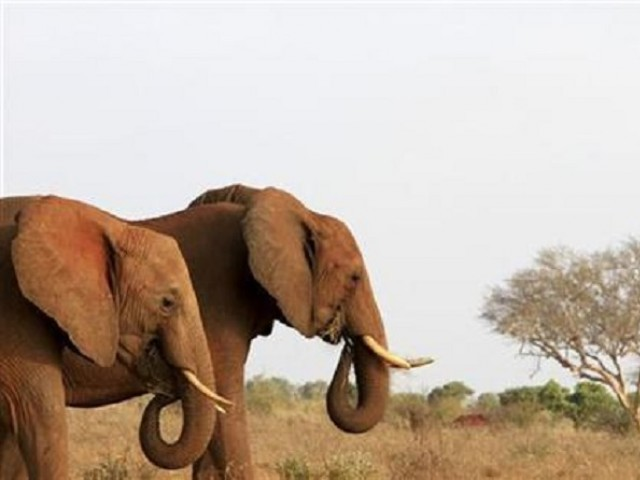elephant: (95, 177, 432, 479), (1, 191, 232, 480)
